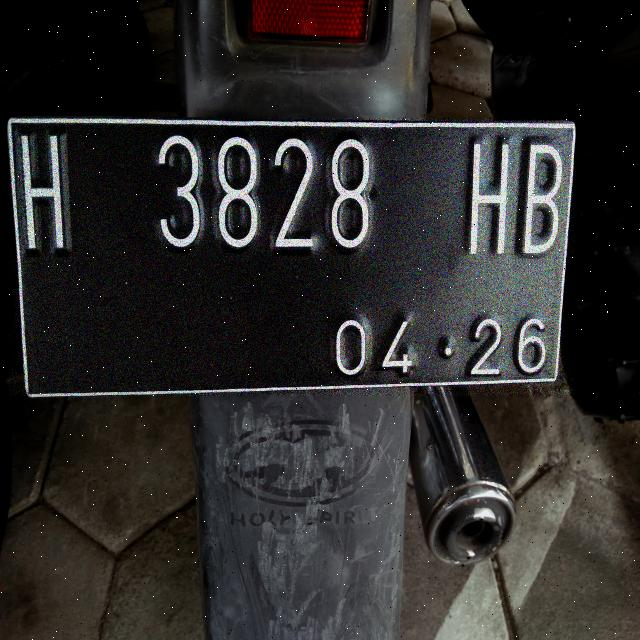plate: (9, 119, 573, 395)
